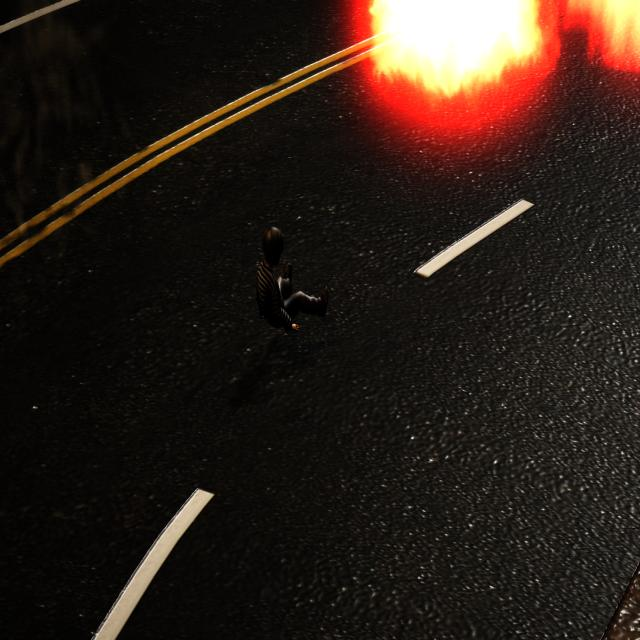Human: (248, 221, 332, 339)
